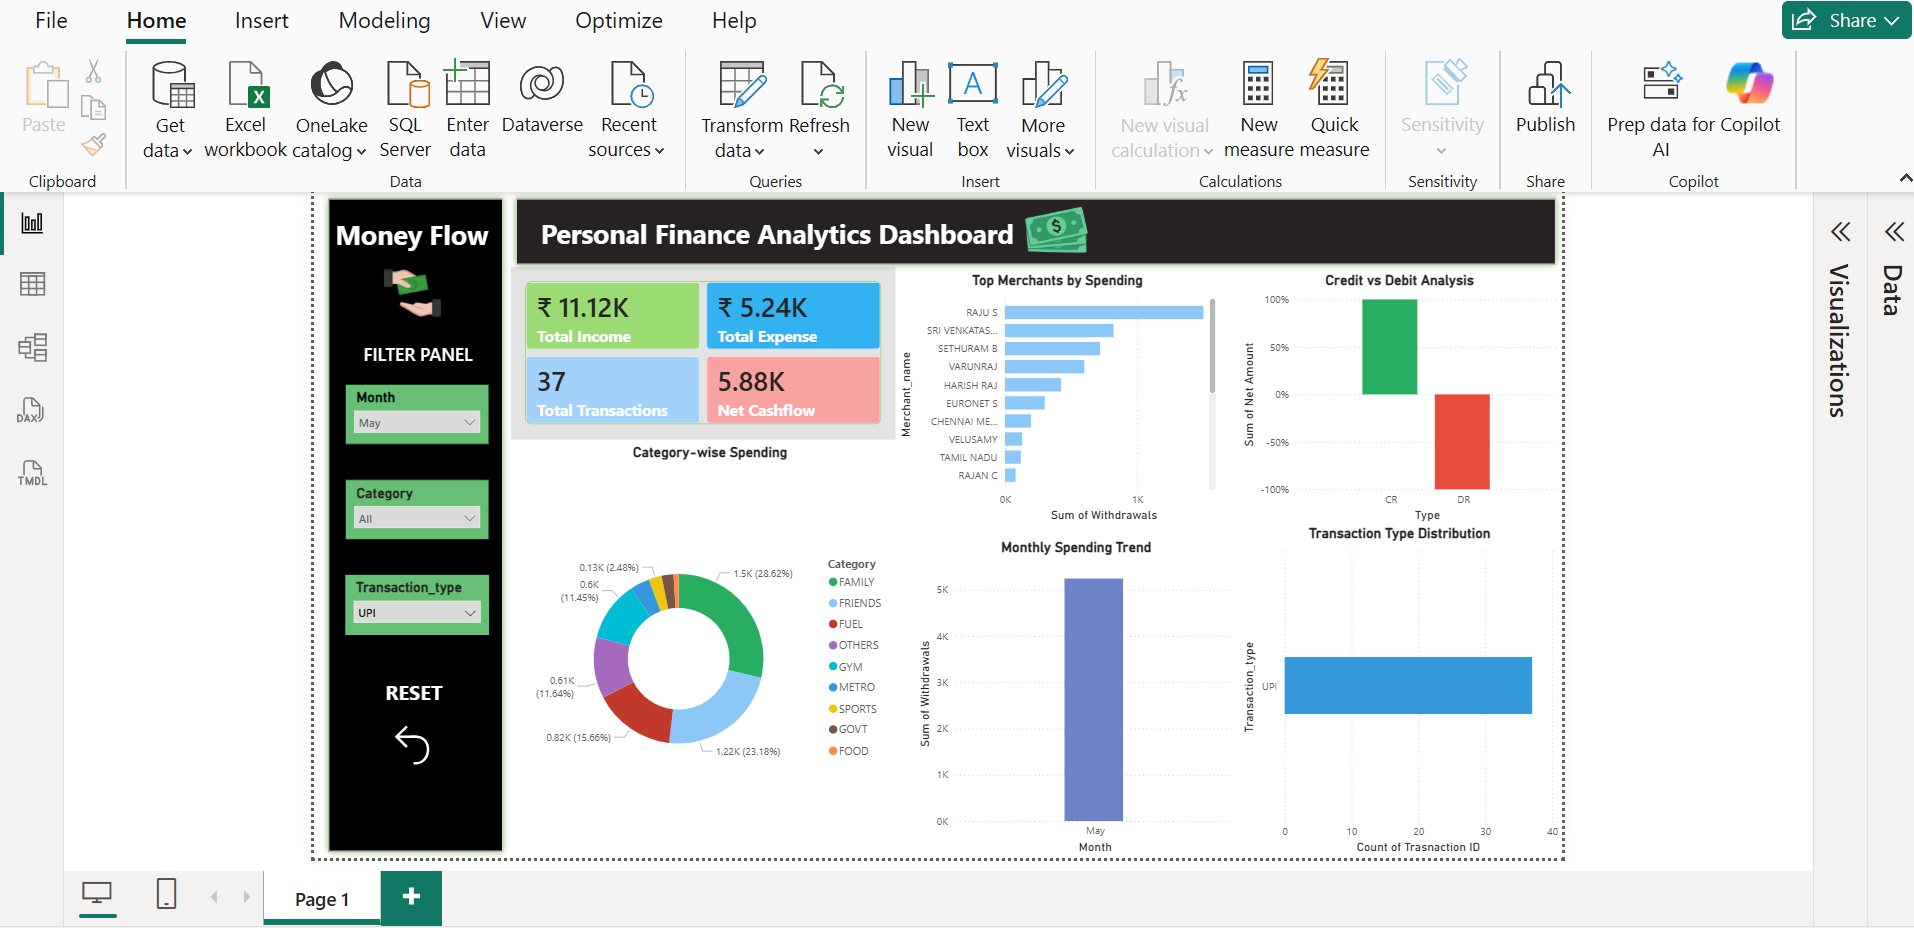

This screenshot's page, from the dashboard's own definition file:
{"tool":"powerbi","page":{"name":"Page 1","canvas":[1500,800],"ordinal":0},"visuals":[{"type":"shape","box":[9.3,0,225.6,800.2],"z":0},{"type":"textbox","box":[272.5,0,615,62.5],"z":1000},{"type":"shape","box":[235,0,1265,95],"z":2000},{"type":"textbox","box":[252.5,22.5,615,72.5],"z":3000},{"type":"donutChart","title":"Category-wise Spending","fields":{"Y":["Sum(Main_Table.Withdrawals)"],"Category":["Main_Table.Category"]},"box":[252.5,302.5,445,497.5],"z":5000},{"type":"barChart","title":"Transaction Type Distribution","fields":{"Category":["Main_Table.Transaction_type"],"Y":["CountNonNull(Main_Table.Trasnaction ID)"]},"box":[1110,400,390,400],"z":6000},{"type":"clusteredBarChart","title":"Top Merchants by Spending","fields":{"Category":["Main_Table.Merchant_name"],"Y":["Sum(Main_Table.Withdrawals)"]},"box":[697.5,95,390,305],"z":7000},{"type":"hundredPercentStackedColumnChart","title":"Credit vs Debit Analysis","fields":{"Category":["Main_Table.Type"],"Y":["Sum(Main_Table.Net Amount)"]},"box":[1110,95,390,305],"z":8000},{"type":"lineStackedColumnComboChart","title":"Monthly Spending Trend","fields":{"Category":["Main_Table.Month"],"Y":["Sum(Main_Table.Withdrawals)"]},"box":[720,417.5,390,382.5],"z":9000},{"type":"slicer","fields":{"Values":["Main_Table.Month"]},"box":[37.5,230,172.5,72.5],"z":10000},{"type":"slicer","fields":{"Values":["Main_Table.Category"]},"box":[37.5,345,172.5,72.5],"z":11000},{"type":"slicer","fields":{"Values":["Main_Table.Transaction_type"]},"box":[37.5,460,172.5,72.5],"z":12000},{"type":"actionButton","box":[87.5,635,67.5,60],"z":13000},{"type":"image","box":[847.3,0,90.6,90.6],"z":14000},{"type":"textbox","box":[0,25,235,72.5],"z":15000},{"type":"textbox","box":[80,580,87.5,57.5],"z":16000},{"type":"image","box":[50,90,135,62.5],"z":17000},{"type":"textbox","box":[30,175,190,55],"z":18000},{"type":"cardVisual","fields":{"Data":["Main_Table.Total Income","Main_Table.Total Expense","Main_Table.Total Transactions","Main_Table.Net Cashflow"]},"box":[235.9,90.6,462.3,207.6],"z":19000}]}

Visuals, with their boxes on the page's 1500x800 design canvas (x1, y1, x2, y2). These are canvas units, not pixel positions in the 1914x928 screenshot, which may show the page scaled, cropped or inside an application window:
shape: bbox=(9, 0, 235, 800)
textbox: bbox=(272, 0, 888, 62)
shape: bbox=(235, 0, 1500, 95)
textbox: bbox=(252, 22, 868, 95)
"Category-wise Spending" donutChart: bbox=(252, 302, 698, 800)
"Transaction Type Distribution" barChart: bbox=(1110, 400, 1500, 800)
"Top Merchants by Spending" clusteredBarChart: bbox=(698, 95, 1088, 400)
"Credit vs Debit Analysis" hundredPercentStackedColumnChart: bbox=(1110, 95, 1500, 400)
"Monthly Spending Trend" lineStackedColumnComboChart: bbox=(720, 418, 1110, 800)
slicer - Main_Table.Month: bbox=(38, 230, 210, 302)
slicer - Main_Table.Category: bbox=(38, 345, 210, 418)
slicer - Main_Table.Transaction_type: bbox=(38, 460, 210, 532)
actionButton: bbox=(88, 635, 155, 695)
image: bbox=(847, 0, 938, 91)
textbox: bbox=(0, 25, 235, 98)
textbox: bbox=(80, 580, 168, 638)
image: bbox=(50, 90, 185, 152)
textbox: bbox=(30, 175, 220, 230)
cardVisual - Main_Table.Total Income x Main_Table.Total Expense: bbox=(236, 91, 698, 298)
